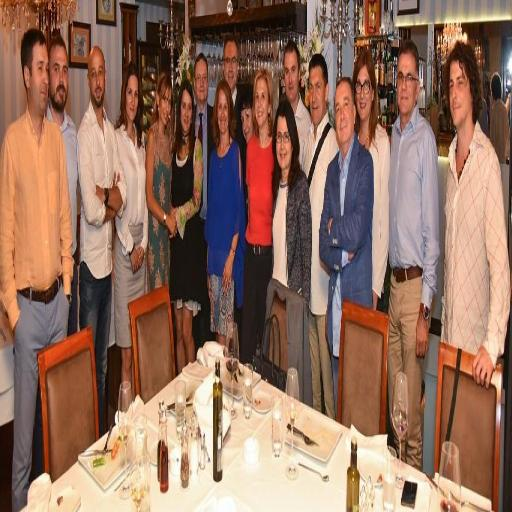person: (0, 29, 73, 510), (441, 43, 510, 386), (388, 41, 439, 469), (78, 46, 126, 433), (320, 77, 373, 407), (302, 54, 338, 419), (205, 80, 245, 344), (114, 64, 147, 381), (170, 81, 205, 371), (240, 69, 274, 362), (47, 35, 78, 335), (353, 51, 389, 308), (272, 99, 311, 306), (193, 53, 214, 347), (146, 73, 172, 290), (223, 35, 246, 183), (284, 41, 311, 163), (490, 73, 509, 164), (241, 91, 254, 143)
